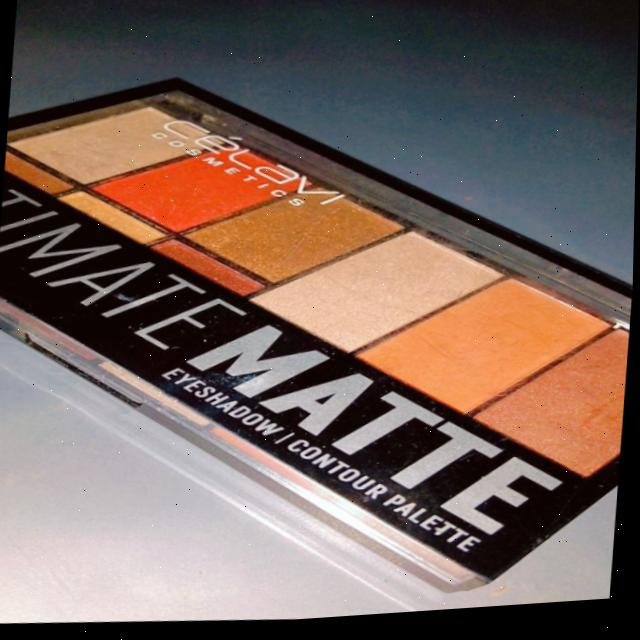eye shade: (350, 265, 626, 431), (252, 215, 512, 360), (469, 321, 632, 502), (2, 86, 230, 204), (185, 188, 428, 294), (87, 141, 323, 248)
